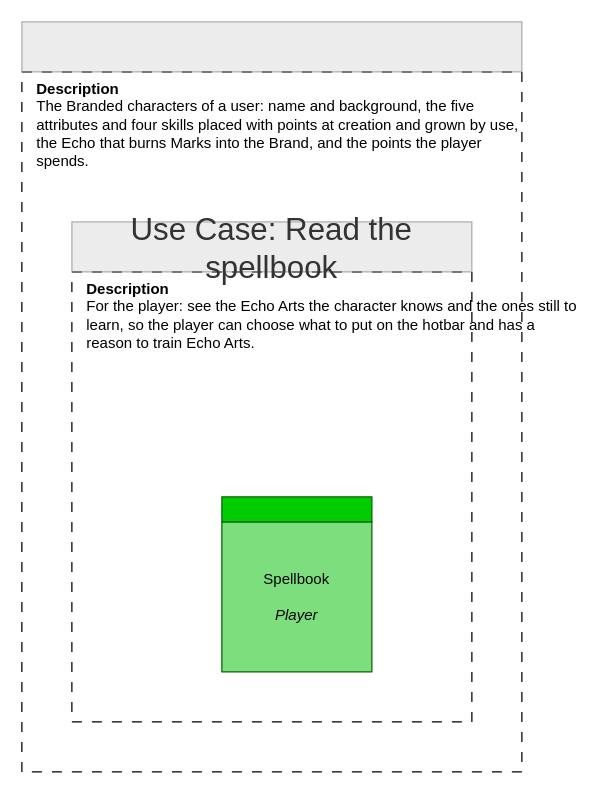
Some shapes in this 606 by 794 pixel diagram are drawn without their labels. Each missing label, with the centre of its shape:
Bounded Context: Characters: pixel 271 46
UI View: pixel 296 509
